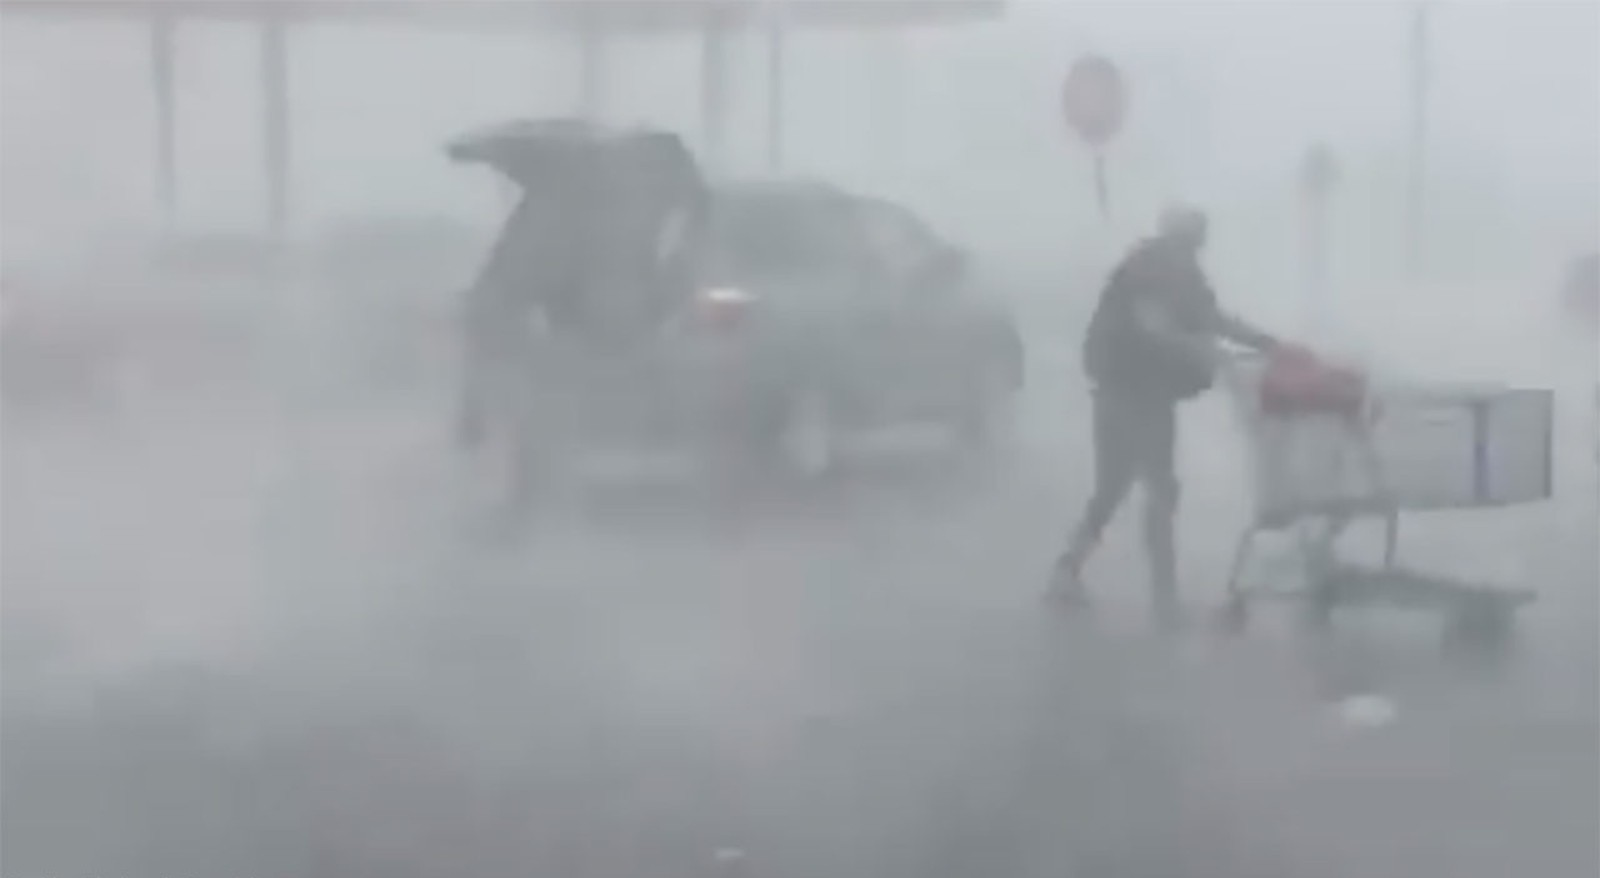car: (437, 124, 1028, 486)
person: (1055, 194, 1274, 634)
